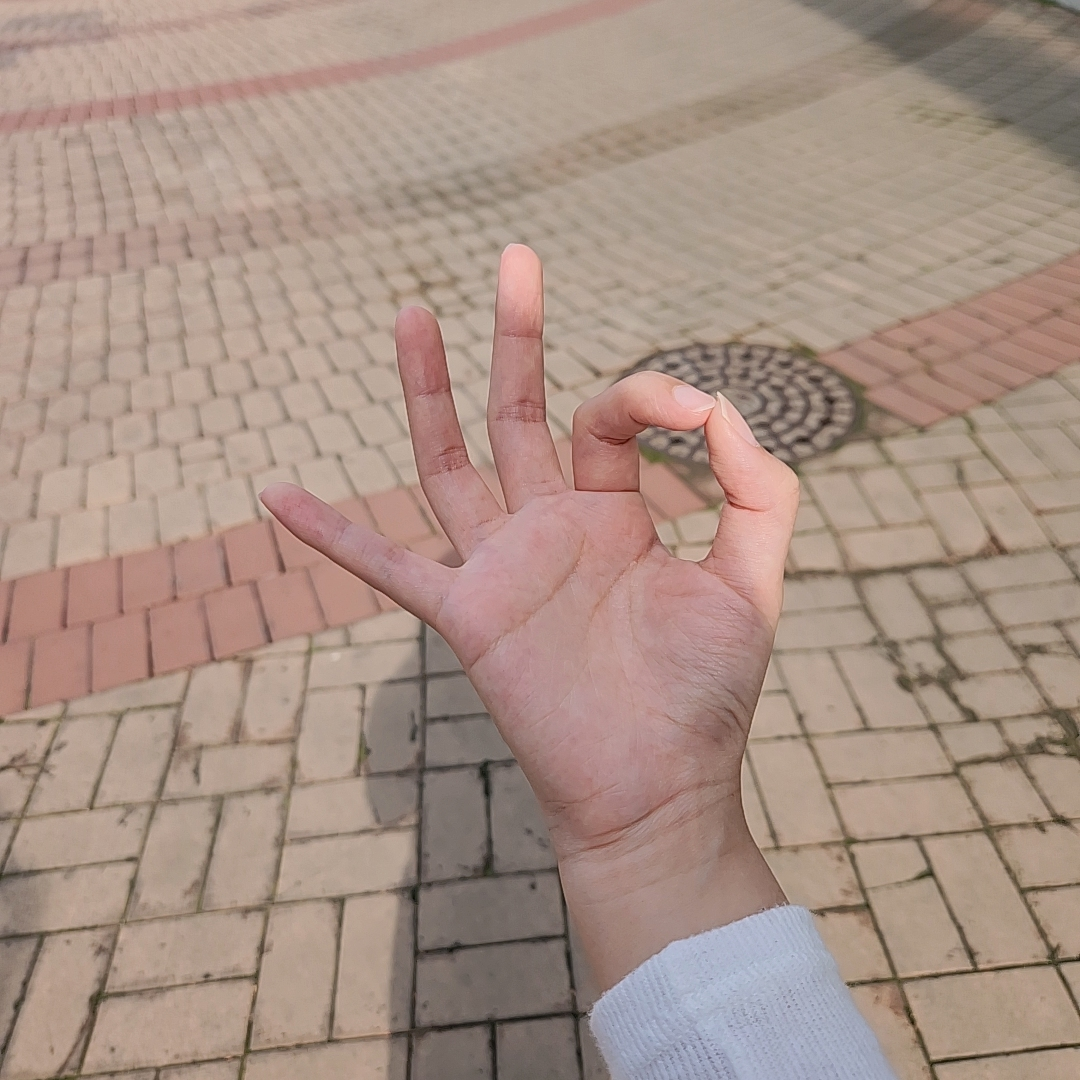see: (261, 243, 804, 810)
